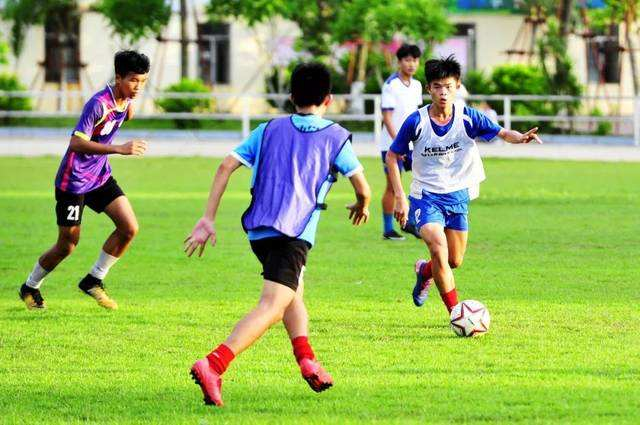football: (450, 297, 492, 340)
